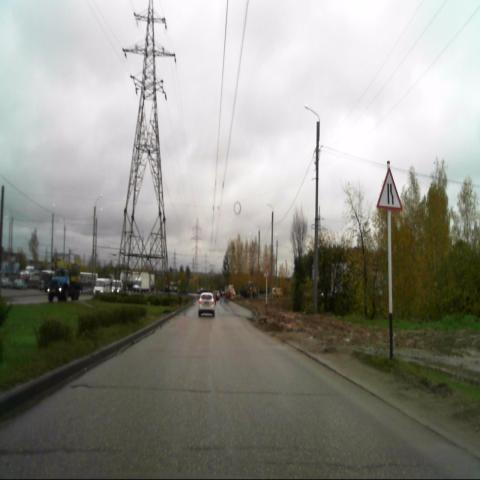1_20_2: (376, 169, 403, 211)
